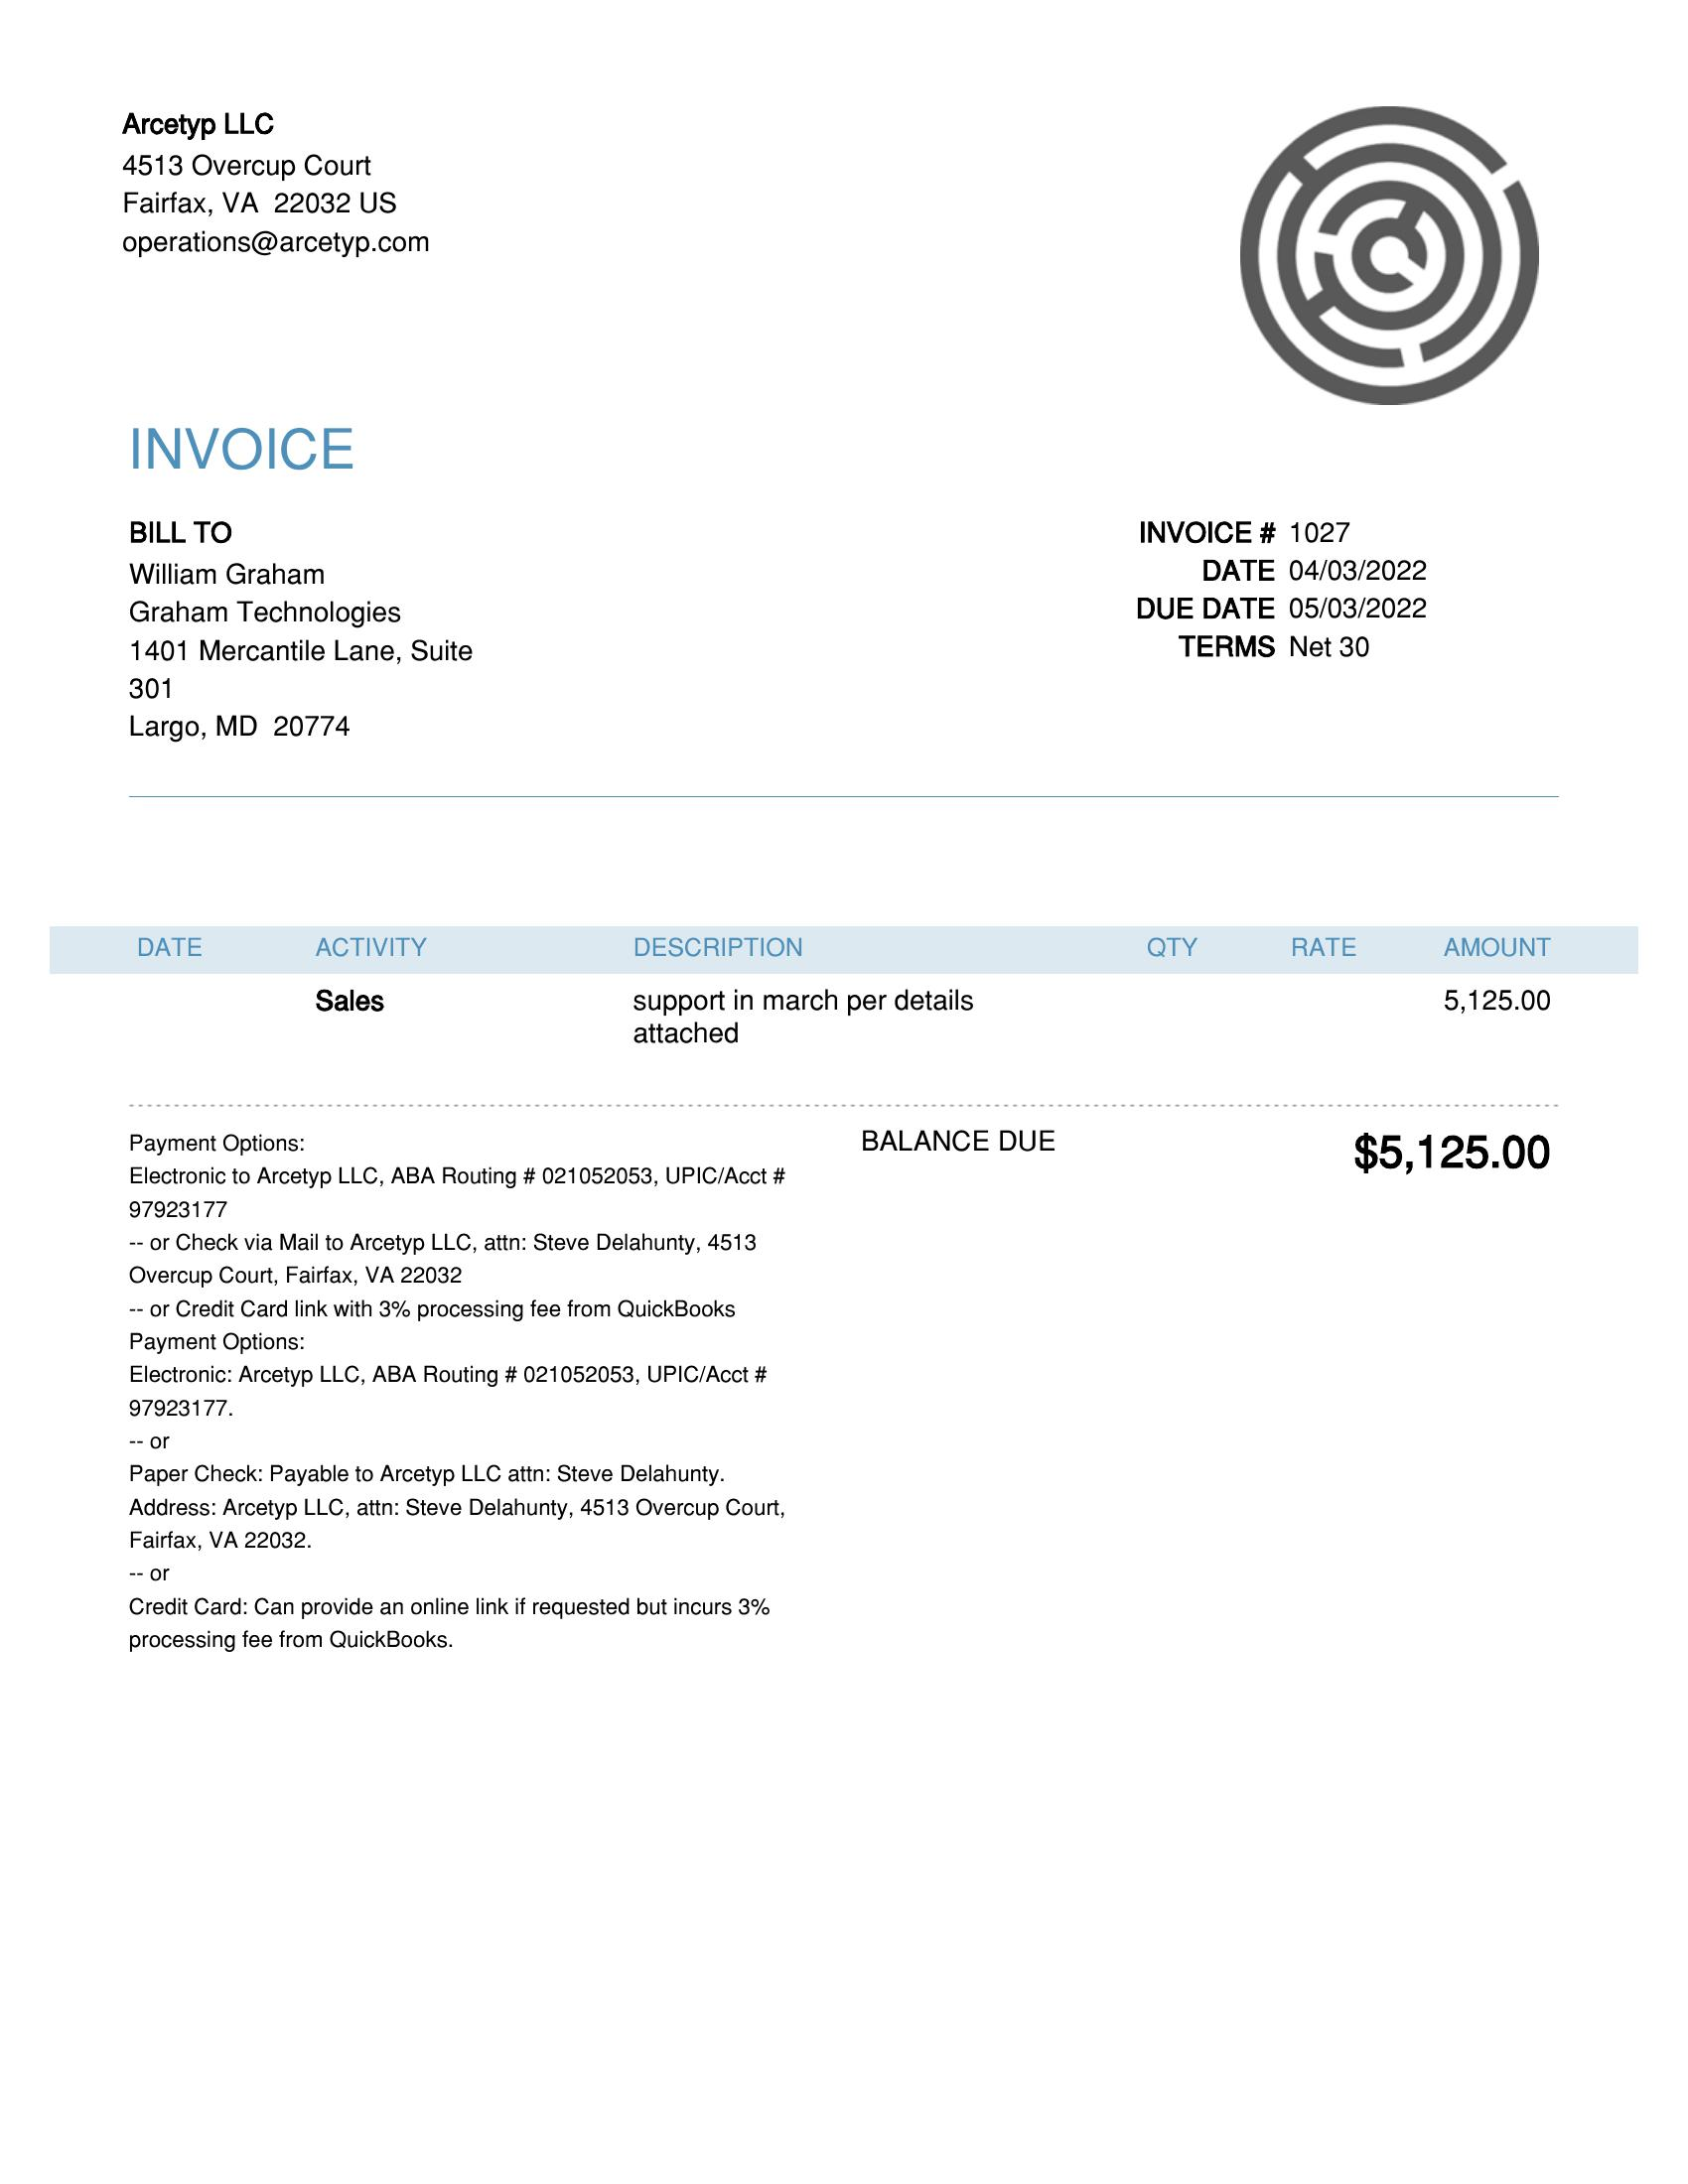table: (43, 908, 1645, 1111)
